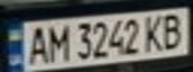2: (121, 15, 145, 55), (90, 18, 112, 60)
3: (72, 19, 93, 61)
4: (109, 16, 127, 57)
A: (21, 24, 51, 65)
B: (157, 10, 190, 51)
K: (142, 12, 169, 53)
M: (42, 21, 69, 64)
